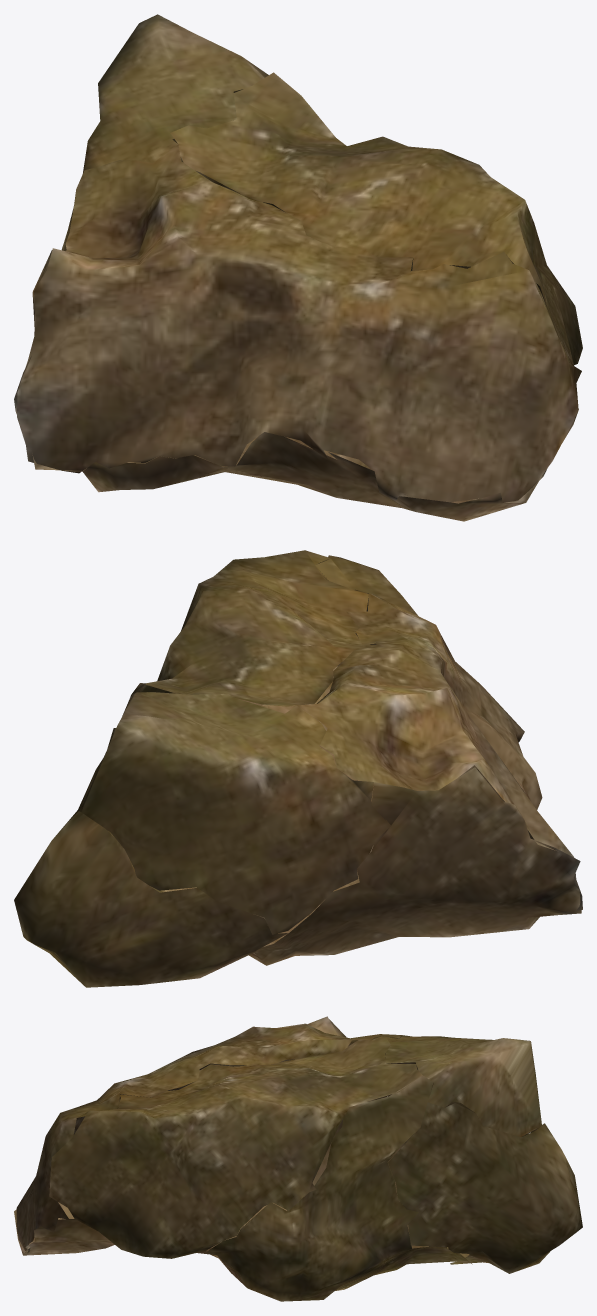
Rendered from mossy_rock_6.glb.
3 views of the same model, one above another, from view 1: azimuth 30°, elevation 25°; view 2: azimuth 150°, elevation 25°; view 3: azimuth 270°, elevation 25° (orthographic). The views are drawn at different scales.
Parts seen in each view (by area): view 1: mossy_rock_6; view 2: mossy_rock_6; view 3: mossy_rock_6.
Part boxes in pixels (bbox=[...]): mossy_rock_6: bbox=[14, 14, 582, 521]; mossy_rock_6: bbox=[14, 550, 582, 987]; mossy_rock_6: bbox=[14, 1016, 582, 1301].
Bounding box in the file's own units: 2.14 × 1.25 × 2.77.
1 material, 1 textured.
